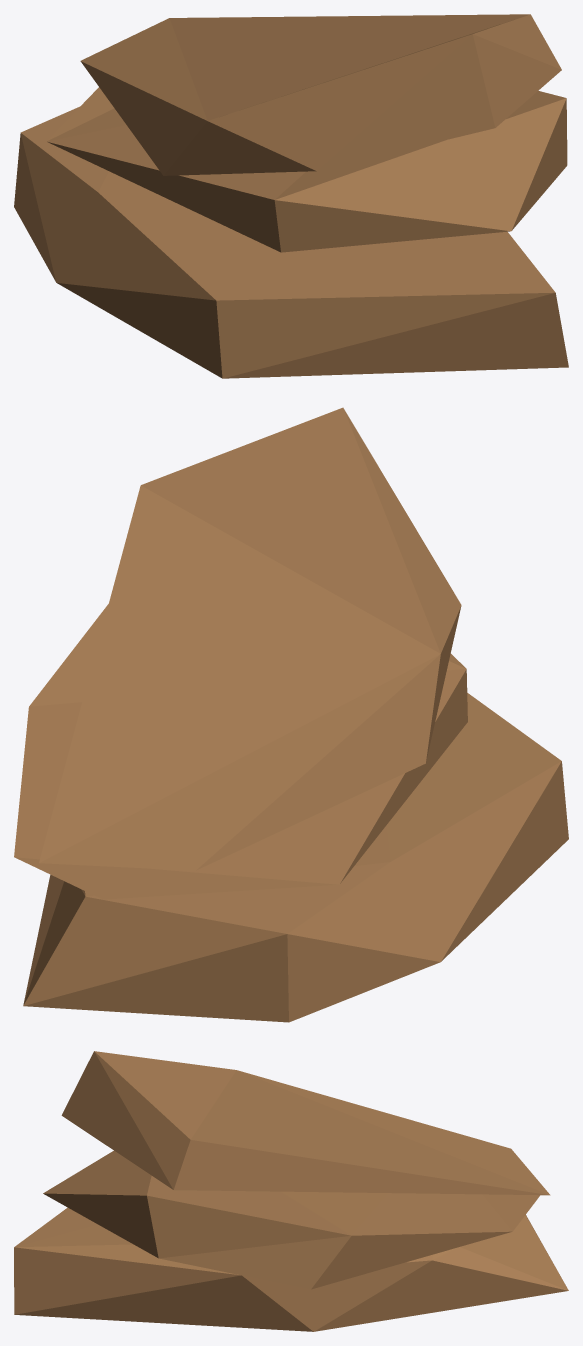
File: roccia_bella2.glb
3 renders of one model, top to bottom at view 1: azimuth 30°, elevation 25°; view 2: azimuth 150°, elevation 25°; view 3: azimuth 270°, elevation 25°, orthographic. The views are drawn at different scales.
Visible parts, largest first — view 1: EM_Rock19_LOD2; view 2: EM_Rock19_LOD2; view 3: EM_Rock19_LOD2.
Part boxes in pixels (<box>): EM_Rock19_LOD2: <box>14,14,568,378</box>; EM_Rock19_LOD2: <box>14,407,568,1022</box>; EM_Rock19_LOD2: <box>14,1051,568,1331</box>.
Bounding box in the file's own units: 4.22 × 3.2 × 6.51.
Materials: 1 (1 with a texture image).
